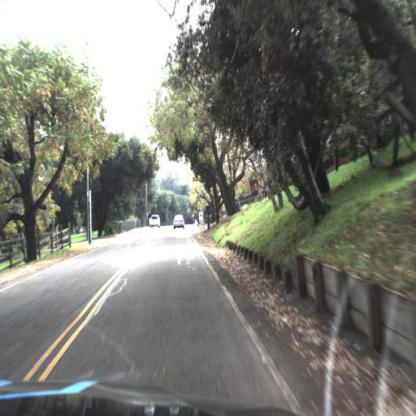car: (147, 210, 164, 235), (171, 213, 188, 236)
